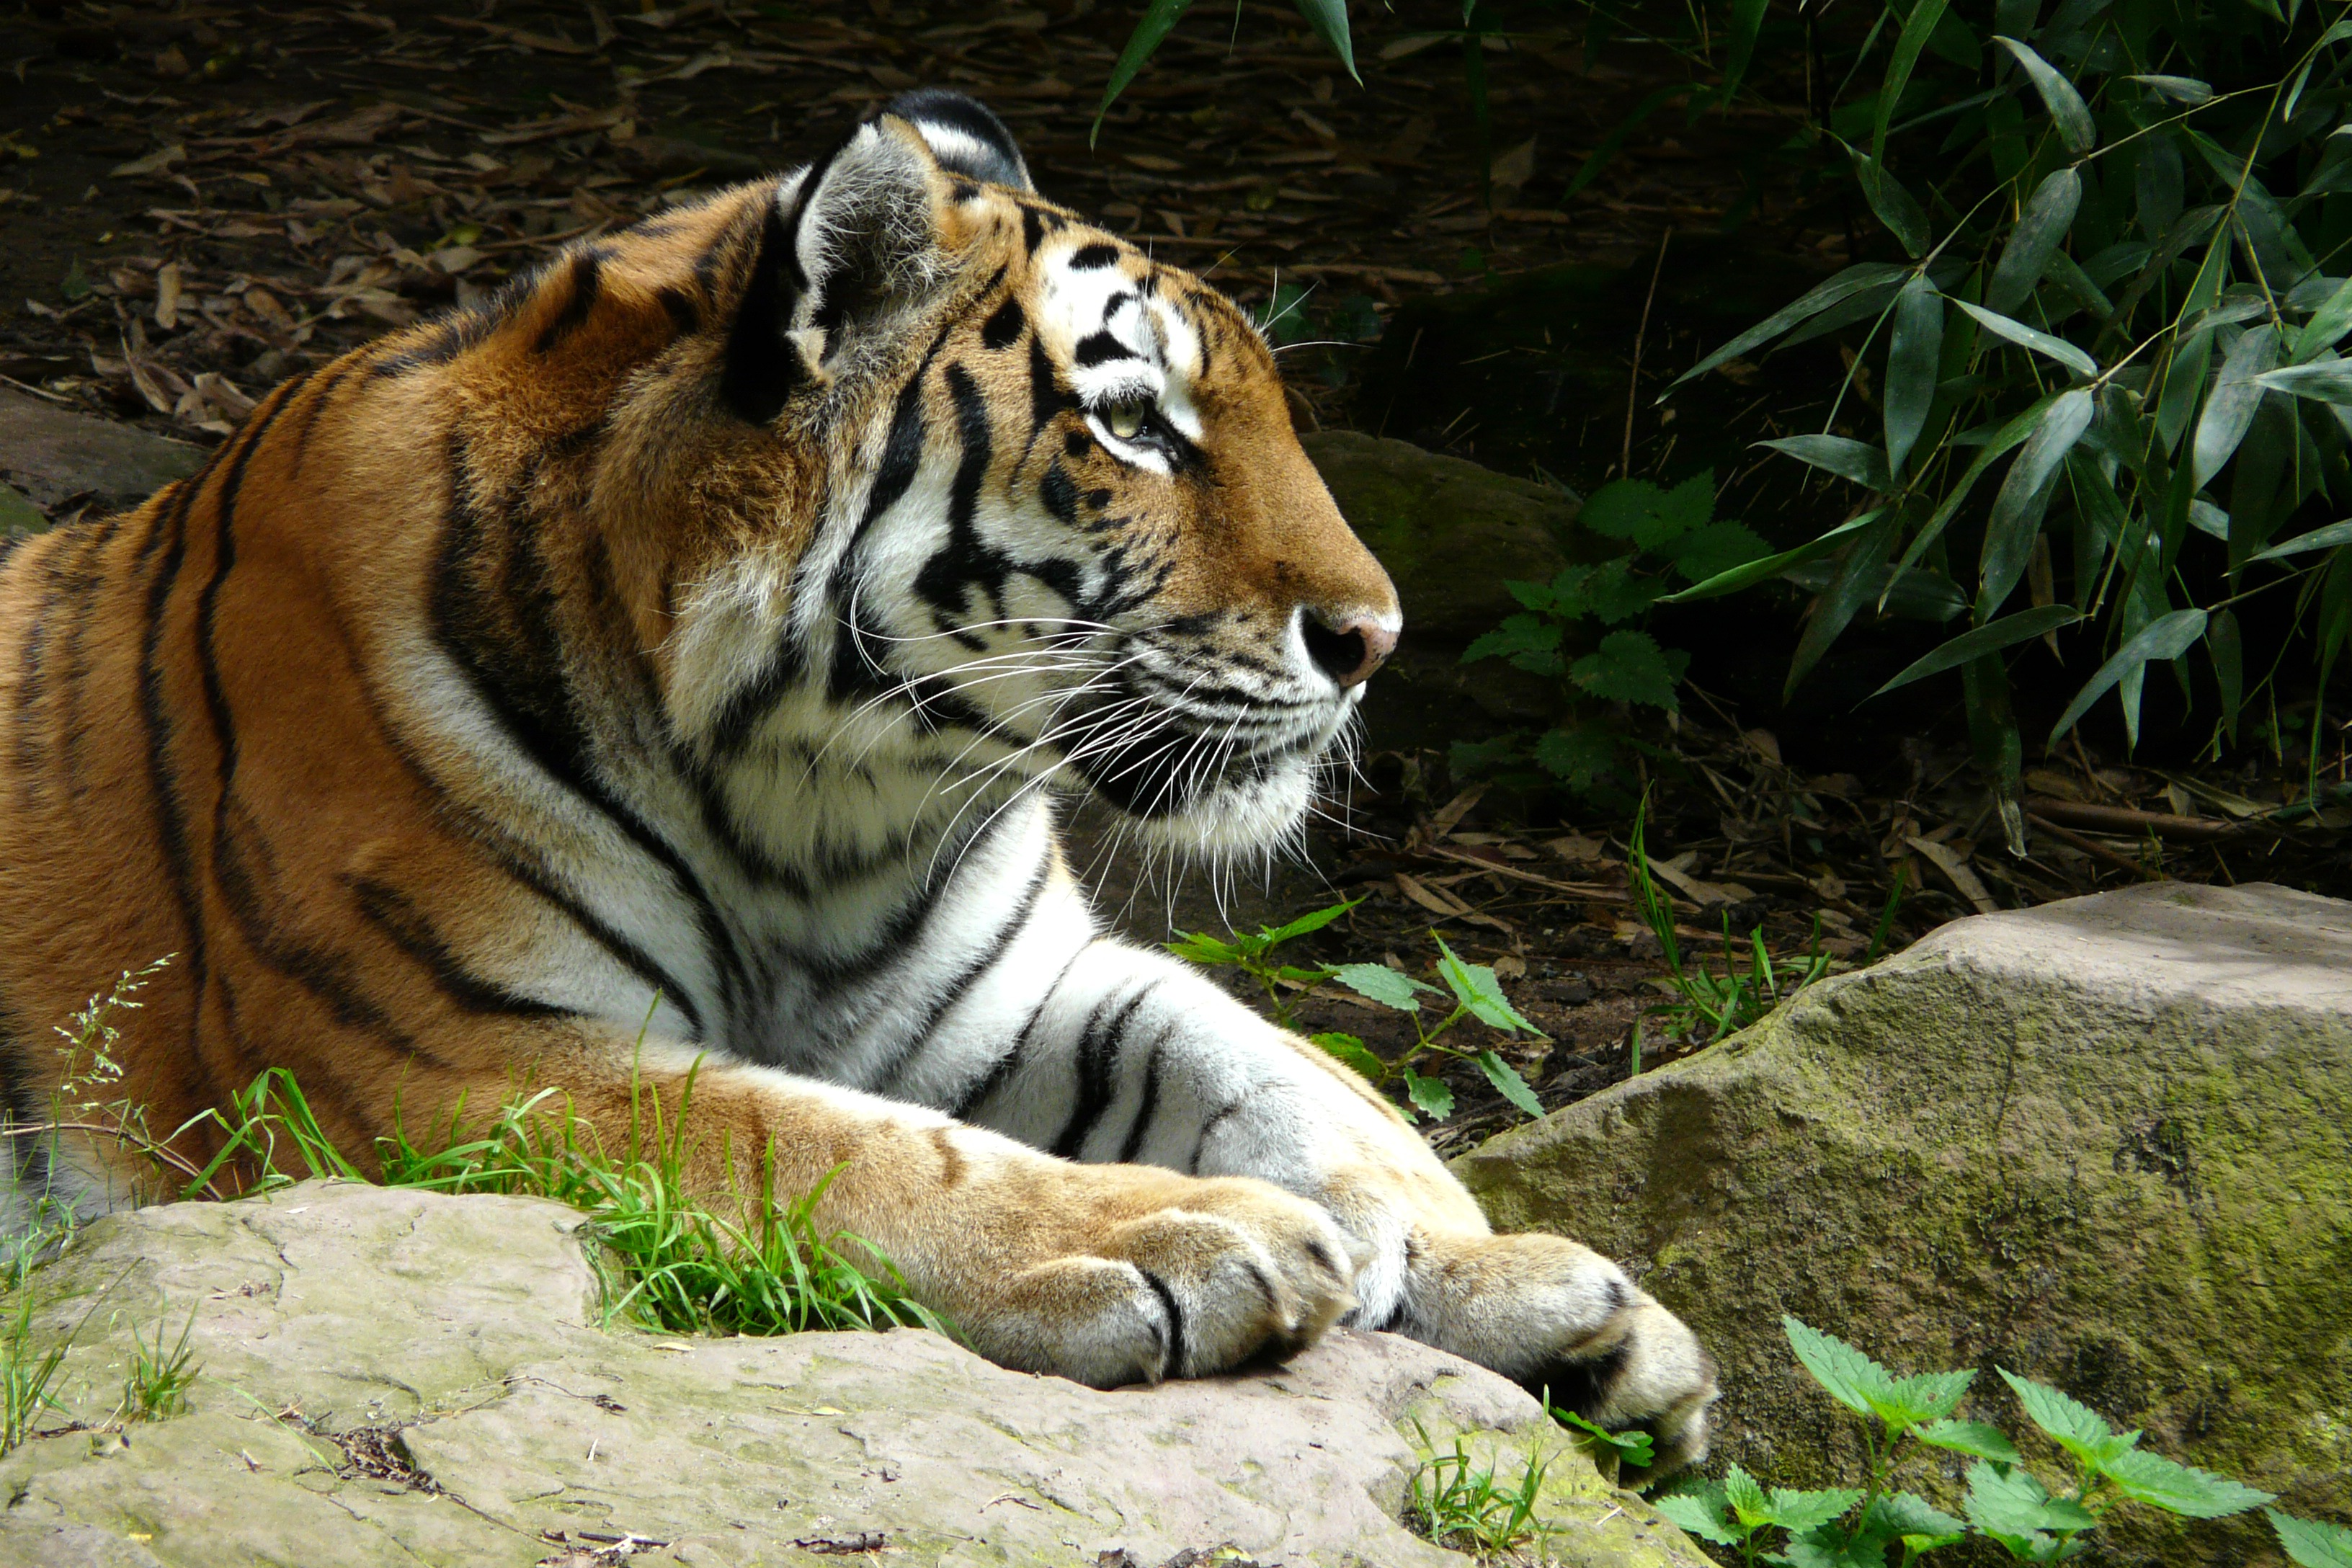tiger: (154, 77, 1629, 1445)
